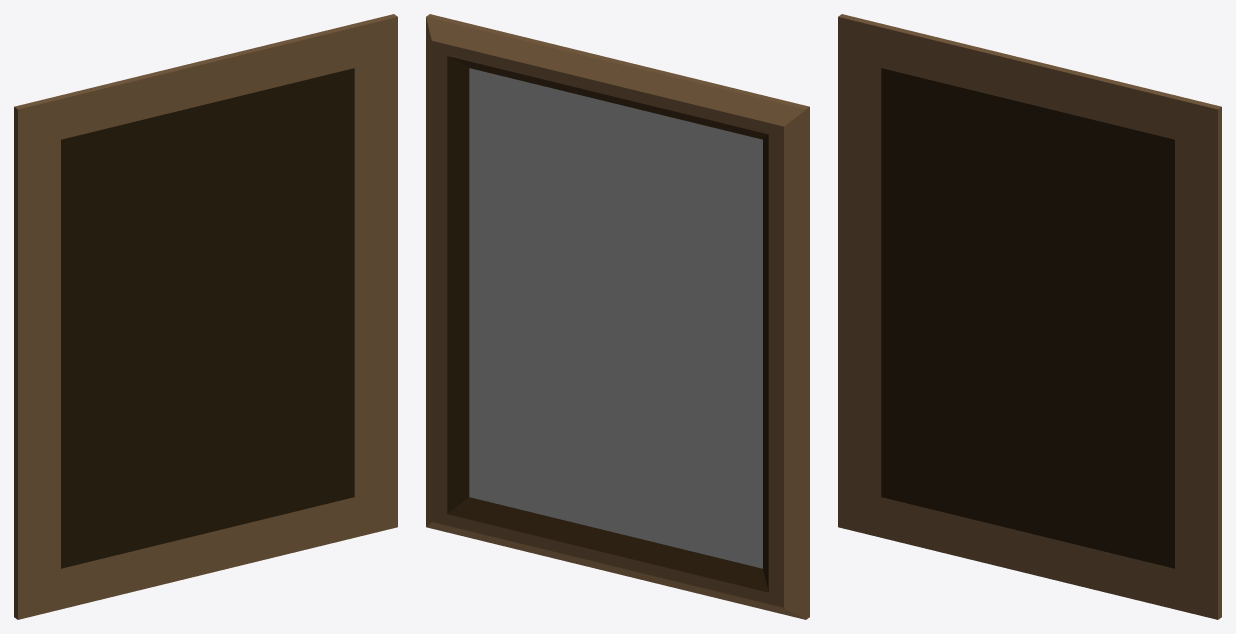
Rendered from Paintings.fbx.
The picture shows the model from 3 angles, left to right: view 1: azimuth 30°, elevation 25°; view 2: azimuth 150°, elevation 25°; view 3: azimuth 330°, elevation 25°; orthographic projection.
Visible parts, largest first — view 1: Cover; view 2: Art, Cover; view 3: Cover.
Boxes of the visible parts, x1,y1,x2,y2 form: Cover: (14,14,397,619); Art: (469,68,762,568); Cover: (426,14,809,619); Cover: (838,14,1221,619).
Size of the model in its own units: 2.48 by 3.18 by 0.1346.
